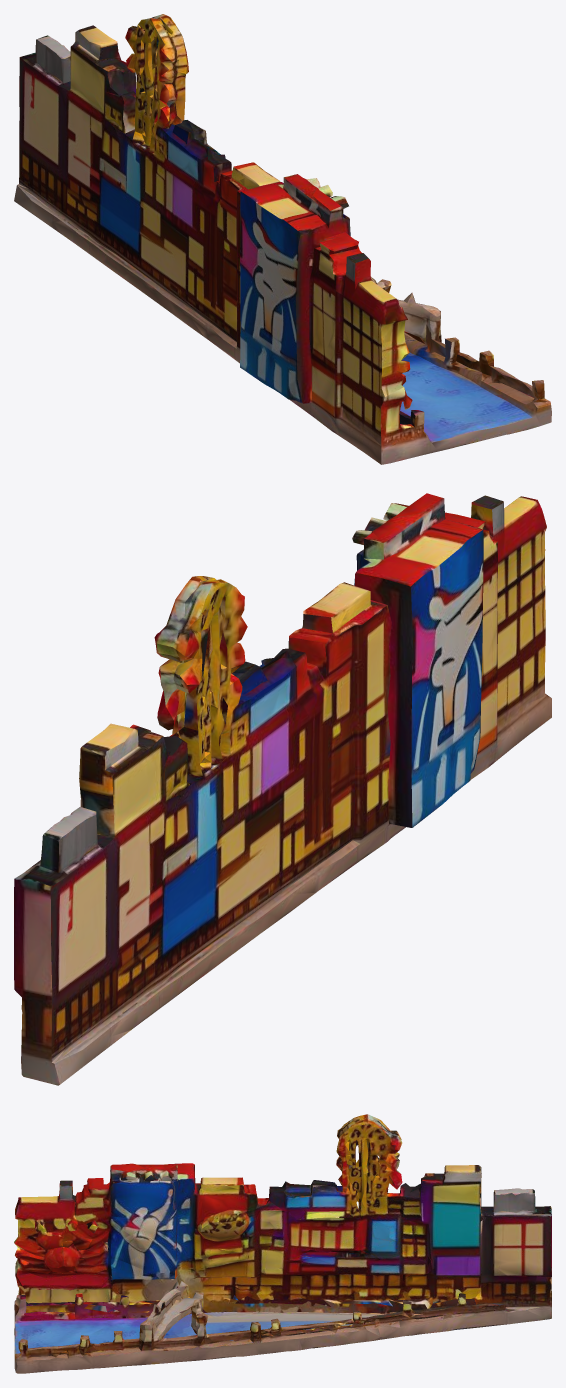
Rendered from dotonbori.glb.
3 views of the same model, one above another, from view 1: azimuth 30°, elevation 25°; view 2: azimuth 150°, elevation 25°; view 3: azimuth 270°, elevation 25° (orthographic). The views are drawn at different scales.
Parts seen in each view (by area): view 1: logan-textured.obj; view 2: logan-textured.obj; view 3: logan-textured.obj.
Boxes of the visible parts, x1,y1,x2,y2 form: logan-textured.obj: (14, 14, 551, 464); logan-textured.obj: (14, 493, 551, 1085); logan-textured.obj: (14, 1114, 551, 1373).
Bounding box in the file's own units: 0.3058 × 0.4117 × 1.
1 material, 1 textured.
